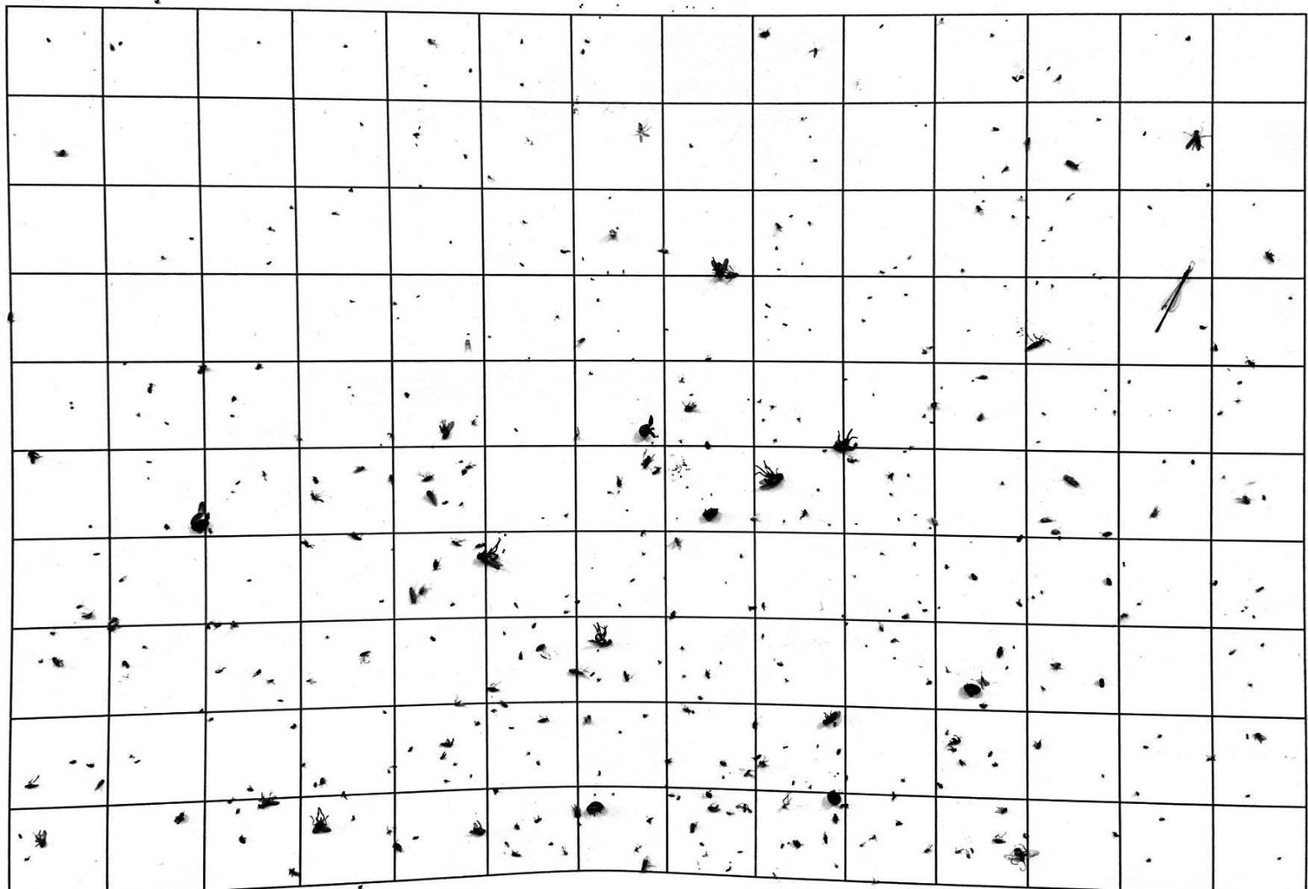fly: (472, 536, 507, 569), (753, 460, 785, 492), (831, 425, 861, 453), (587, 620, 615, 649), (708, 250, 731, 283)
test: (1146, 257, 1197, 333), (186, 501, 219, 536), (1002, 844, 1042, 871), (1178, 125, 1211, 153), (307, 805, 335, 835), (1022, 333, 1052, 354), (637, 413, 660, 440), (254, 791, 282, 810), (436, 417, 457, 442), (820, 709, 842, 729), (583, 801, 606, 819), (960, 681, 983, 699), (1060, 472, 1083, 490), (457, 460, 479, 477), (823, 789, 842, 808), (31, 830, 51, 848), (701, 505, 720, 523), (468, 821, 489, 837), (567, 663, 587, 679), (632, 120, 647, 141), (405, 582, 419, 604), (309, 488, 327, 505), (604, 225, 621, 243), (25, 449, 44, 465), (943, 733, 963, 748), (24, 773, 41, 790), (106, 615, 122, 633), (1063, 158, 1081, 174), (424, 489, 439, 508), (735, 801, 754, 816), (668, 536, 685, 552), (638, 855, 653, 873), (1262, 248, 1277, 266), (1252, 728, 1268, 744), (639, 453, 655, 469), (390, 840, 407, 855), (205, 619, 222, 634), (680, 400, 698, 414), (194, 362, 212, 376), (424, 35, 440, 50), (172, 810, 189, 824), (50, 656, 67, 670), (1235, 493, 1253, 506), (52, 147, 71, 159), (619, 668, 633, 684), (419, 470, 436, 483), (978, 672, 991, 689), (439, 736, 457, 748), (484, 681, 502, 693), (300, 539, 316, 552), (348, 530, 364, 543), (928, 516, 941, 532), (725, 269, 741, 282), (286, 866, 303, 878), (845, 454, 862, 466), (449, 537, 467, 548), (809, 46, 823, 60), (1010, 70, 1024, 84), (994, 804, 1009, 817), (706, 802, 721, 815), (964, 846, 977, 861), (993, 645, 1006, 660), (1149, 505, 1162, 520), (359, 647, 371, 663), (681, 705, 697, 717), (571, 802, 582, 819), (582, 712, 595, 726), (1094, 677, 1108, 690), (749, 512, 763, 525), (536, 714, 551, 726), (93, 777, 105, 792), (259, 467, 270, 483), (773, 220, 784, 236), (991, 834, 1008, 844), (840, 800, 853, 813), (757, 756, 770, 769), (928, 398, 941, 411), (758, 27, 771, 40), (1049, 659, 1063, 671), (966, 571, 980, 583), (1244, 356, 1256, 370), (462, 337, 474, 351), (387, 472, 398, 487), (687, 820, 698, 835), (571, 426, 582, 441), (81, 610, 97, 620), (656, 247, 672, 257), (1022, 135, 1032, 151), (1031, 738, 1043, 751), (798, 508, 810, 521), (451, 699, 466, 709), (354, 463, 366, 475), (535, 642, 547, 654), (249, 667, 261, 679), (228, 619, 240, 631), (884, 470, 896, 482), (431, 559, 442, 572), (666, 609, 679, 620), (742, 768, 755, 779), (1101, 529, 1114, 540), (876, 621, 887, 634), (1227, 645, 1238, 658), (999, 164, 1012, 175), (651, 464, 662, 477), (1064, 191, 1075, 204), (557, 246, 571, 256), (1039, 516, 1056, 524), (615, 473, 624, 488), (820, 832, 829, 847), (472, 718, 484, 729), (387, 762, 398, 774), (792, 838, 803, 850), (933, 779, 945, 790), (1102, 575, 1113, 587), (973, 204, 984, 216), (253, 361, 265, 372), (106, 41, 117, 53), (419, 585, 429, 598), (498, 699, 511, 709), (509, 849, 522, 859), (305, 677, 318, 687), (831, 812, 841, 825), (922, 844, 935, 854), (1118, 611, 1131, 621), (146, 381, 156, 394), (212, 665, 226, 674), (746, 603, 760, 612), (6, 310, 15, 324), (1020, 830, 1031, 841), (119, 659, 130, 670), (893, 818, 904, 829), (576, 336, 587, 347), (91, 549, 103, 559), (117, 574, 129, 584), (702, 668, 712, 680), (1013, 534, 1025, 544), (889, 636, 901, 646), (1205, 754, 1218, 763), (703, 439, 712, 452), (264, 225, 278, 233), (311, 474, 321, 485), (476, 541, 487, 551), (237, 835, 248, 845), (633, 844, 644, 854), (438, 750, 448, 761), (226, 796, 237, 806), (339, 789, 349, 800), (232, 477, 243, 487), (663, 756, 674, 766), (751, 751, 761, 762), (869, 833, 879, 844), (1111, 830, 1122, 840), (1038, 683, 1048, 694), (899, 611, 910, 621), (975, 412, 985, 423), (876, 267, 887, 277), (1053, 73, 1064, 83), (384, 827, 396, 836), (751, 719, 760, 731), (1050, 527, 1062, 536), (1211, 342, 1220, 354), (977, 373, 989, 382), (919, 347, 931, 356), (947, 746, 960, 754), (978, 701, 988, 711), (516, 651, 526, 661), (512, 822, 522, 832), (703, 790, 713, 800), (957, 758, 967, 768), (1245, 680, 1255, 690), (1046, 224, 1056, 234), (66, 400, 76, 410), (561, 847, 570, 858), (645, 815, 656, 824), (67, 757, 78, 766), (759, 600, 768, 611), (725, 809, 736, 818), (1015, 597, 1024, 608), (1197, 322, 1208, 331), (1146, 202, 1155, 213), (346, 185, 355, 196), (1216, 408, 1224, 420), (440, 497, 449, 507), (428, 635, 438, 644), (233, 807, 243, 816), (411, 834, 421, 843), (197, 707, 207, 716), (265, 677, 275, 686), (162, 522, 171, 532), (318, 776, 327, 786), (718, 759, 728, 768), (924, 678, 934, 687), (942, 562, 951, 572), (795, 414, 804, 424), (678, 375, 687, 385), (991, 124, 1001, 133), (811, 156, 820, 166), (43, 35, 52, 45), (158, 254, 168, 263), (1184, 34, 1193, 44), (835, 746, 843, 757), (890, 791, 898, 802), (859, 315, 867, 326), (401, 391, 412, 399), (440, 778, 452, 785), (84, 762, 96, 769), (329, 210, 341, 217), (529, 621, 538, 630), (406, 745, 415, 754), (140, 643, 149, 652), (289, 721, 298, 730), (639, 528, 648, 537), (775, 659, 784, 668), (833, 861, 842, 870), (998, 478, 1007, 487), (903, 470, 912, 479), (1111, 407, 1120, 416), (703, 355, 712, 364), (805, 219, 814, 228), (265, 259, 274, 268), (287, 203, 296, 212), (416, 183, 425, 192), (579, 48, 588, 57), (937, 16, 946, 25), (245, 785, 255, 793), (489, 706, 499, 714), (561, 608, 571, 616), (207, 715, 215, 725), (666, 791, 676, 799), (954, 846, 962, 856), (1254, 585, 1264, 593), (1134, 600, 1144, 608), (1287, 294, 1295, 304), (959, 266, 967, 276), (927, 344, 937, 352), (471, 418, 479, 428), (230, 395, 238, 405), (1099, 771, 1106, 782), (1244, 731, 1251, 742), (153, 0, 164, 7), (457, 501, 466, 509), (534, 759, 542, 768), (641, 712, 650, 720), (492, 786, 500, 795), (533, 816, 542, 824), (547, 840, 555, 849), (74, 602, 83, 610), (245, 576, 253, 585), (348, 814, 357, 822), (86, 522, 95, 530), (696, 840, 705, 848), (779, 841, 787, 850), (858, 840, 866, 849), (986, 749, 994, 758), (991, 761, 1000, 769), (1133, 789, 1141, 798), (1010, 642, 1018, 651), (1220, 473, 1228, 482), (1211, 579, 1220, 587), (877, 549, 886, 557), (915, 598, 924, 606), (887, 490, 895, 499), (1258, 641, 1267, 649), (820, 446, 828, 455), (902, 290, 910, 299), (905, 253, 913, 262), (890, 263, 899, 271), (865, 294, 874, 302), (763, 301, 772, 309), (687, 141, 695, 150), (606, 193, 614, 202), (594, 296, 602, 305), (553, 313, 562, 321), (342, 42, 350, 51), (486, 173, 495, 181), (798, 115, 807, 123), (877, 21, 885, 30), (501, 546, 508, 556), (298, 761, 308, 768), (144, 458, 154, 465), (695, 695, 705, 702), (899, 775, 906, 785), (1120, 559, 1127, 569), (1010, 211, 1017, 221), (687, 391, 697, 398), (660, 326, 670, 333), (294, 436, 304, 443), (589, 670, 597, 678), (563, 592, 571, 600), (574, 597, 582, 605), (628, 576, 636, 584), (678, 645, 686, 653), (539, 514, 547, 522), (1155, 731, 1163, 739), (1141, 743, 1149, 751), (1260, 493, 1268, 501), (921, 606, 929, 614), (1235, 378, 1243, 386), (1234, 397, 1242, 405), (771, 437, 779, 445), (759, 416, 767, 424), (676, 437, 684, 445), (1094, 115, 1102, 123), (1141, 130, 1149, 138), (604, 268, 612, 276), (587, 369, 595, 377), (511, 426, 519, 434), (518, 260, 526, 268), (503, 839, 510, 848), (22, 855, 31, 862), (563, 510, 570, 519), (640, 550, 647, 559), (656, 658, 663, 667), (780, 744, 789, 751), (815, 741, 822, 750), (1190, 457, 1197, 466), (1160, 458, 1167, 467), (944, 665, 951, 674), (1040, 410, 1047, 419), (920, 411, 927, 420), (780, 321, 789, 328), (805, 326, 814, 333), (761, 313, 770, 320), (773, 244, 780, 253), (775, 265, 782, 274), (1091, 272, 1098, 281), (580, 254, 587, 263), (620, 267, 627, 276), (630, 356, 637, 365), (1018, 194, 1027, 201), (255, 39, 264, 46), (413, 131, 422, 138), (520, 219, 529, 226), (583, 37, 592, 44), (450, 762, 460, 768), (357, 883, 367, 889), (449, 602, 457, 609), (513, 601, 520, 609), (500, 629, 508, 636), (507, 724, 515, 731), (276, 697, 284, 704), (616, 601, 623, 609), (680, 672, 688, 679), (738, 551, 745, 559), (736, 849, 744, 856), (606, 489, 614, 496), (807, 783, 815, 790), (1158, 816, 1166, 823), (1145, 856, 1152, 864), (1244, 792, 1252, 799), (1004, 664, 1011, 672), (1034, 438, 1042, 445), (911, 540, 918, 548), (911, 511, 919, 518), (886, 606, 893, 614), (783, 676, 790, 684), (1126, 377, 1133, 385), (768, 403, 775, 411), (1204, 181, 1211, 189), (980, 173, 987, 181), (788, 212, 795, 220), (227, 412, 235, 419), (117, 39, 124, 47), (162, 420, 170, 427), (358, 120, 366, 127), (467, 66, 474, 74), (422, 81, 429, 89), (988, 32, 996, 39), (1045, 64, 1052, 72), (1003, 16, 1010, 24), (324, 633, 330, 642), (17, 832, 23, 841), (48, 630, 57, 636), (128, 751, 134, 760), (760, 632, 766, 641), (851, 572, 857, 581), (870, 390, 876, 399), (462, 151, 468, 160), (458, 459, 465, 466), (597, 677, 604, 684), (525, 750, 532, 757), (591, 792, 598, 799), (229, 489, 236, 496), (381, 709, 388, 716), (724, 865, 731, 872), (1038, 588, 1045, 595), (1029, 593, 1036, 600), (1250, 613, 1257, 620), (929, 419, 936, 426), (825, 522, 832, 529), (588, 275, 595, 282), (135, 411, 142, 418), (121, 361, 128, 368), (391, 300, 398, 307), (596, 770, 602, 778), (37, 658, 45, 664), (135, 758, 141, 766), (145, 474, 151, 482), (312, 780, 318, 788), (377, 598, 385, 604), (718, 659, 724, 667), (944, 728, 950, 736), (895, 516, 903, 522), (756, 397, 762, 405), (1049, 282, 1055, 290), (964, 327, 972, 333), (1040, 237, 1046, 245), (841, 376, 849, 382), (980, 197, 986, 205), (188, 235, 194, 243), (348, 298, 356, 304), (518, 37, 524, 45), (791, 778, 796, 787), (617, 729, 623, 736), (610, 791, 617, 797), (624, 507, 631, 513), (853, 520, 859, 527), (863, 642, 870, 648), (1034, 279, 1040, 286), (1251, 201, 1257, 208), (798, 261, 805, 267), (814, 487, 820, 494), (1103, 387, 1109, 394), (909, 444, 915, 451), (902, 448, 908, 455), (415, 293, 421, 300), (518, 81, 525, 87), (395, 315, 402, 321), (417, 124, 423, 131), (1277, 855, 1282, 863), (891, 655, 897, 661), (448, 239, 454, 245), (468, 772, 473, 779), (721, 774, 726, 781), (781, 518, 786, 525), (1003, 283, 1008, 290), (938, 385, 945, 390), (970, 378, 975, 385), (1024, 215, 1031, 220), (923, 122, 928, 129), (485, 334, 492, 339), (465, 331, 470, 338), (346, 384, 353, 389), (414, 142, 419, 149), (675, 797, 683, 801), (808, 134, 812, 140)
